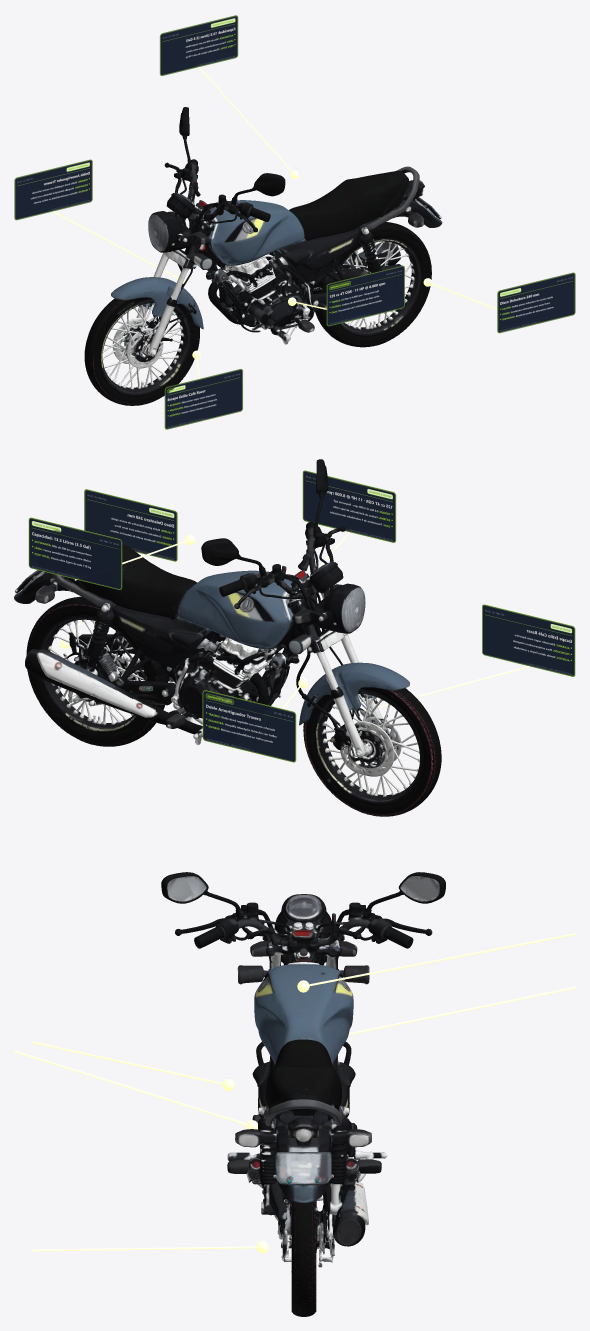
Rendered from akt-nkd_ar.glb.
The picture shows the model from 3 angles, top to bottom: view 1: azimuth 30°, elevation 25°; view 2: azimuth 150°, elevation 25°; view 3: azimuth 270°, elevation 25°; orthographic projection. The views are drawn at different scales.
Visible parts, largest first — view 1: Mesh_0.002, Card_0_FRENOS & CONTROL, Card_4_SUSPENSIÓN & CHASIS, Card_1_MOTOR & POTENCIA, Card_2_ESCAPE & ESTILO, Card_3_TANQUE & AUTONOMÍA; view 2: Mesh_0.002, Card_3_TANQUE & AUTONOMÍA, Card_4_SUSPENSIÓN & CHASIS, Card_2_ESCAPE & ESTILO, Card_1_MOTOR & POTENCIA, Card_0_FRENOS & CONTROL; view 3: Mesh_0.002, Card_3_TANQUE & AUTONOMÍA_Line, Card_1_MOTOR & POTENCIA_Line, Card_4_SUSPENSIÓN & CHASIS_Line, Card_0_FRENOS & CONTROL_Line.
Part boxes in pixels (<box>): Mesh_0.002: <box>84,107,442,405</box>; Card_0_FRENOS & CONTROL: <box>497,272,575,333</box>; Card_4_SUSPENSIÓN & CHASIS: <box>14,159,92,220</box>; Card_1_MOTOR & POTENCIA: <box>326,265,404,326</box>; Card_2_ESCAPE & ESTILO: <box>164,369,242,429</box>; Card_3_TANQUE & AUTONOMÍA: <box>160,15,238,75</box>; Mesh_0.002: <box>14,459,441,816</box>; Card_3_TANQUE & AUTONOMÍA: <box>28,517,122,589</box>; Card_4_SUSPENSIÓN & CHASIS: <box>202,690,296,762</box>; Card_2_ESCAPE & ESTILO: <box>482,604,575,676</box>; Card_1_MOTOR & POTENCIA: <box>302,470,396,542</box>; Card_0_FRENOS & CONTROL: <box>84,489,177,561</box>; Mesh_0.002: <box>161,872,445,1316</box>; Card_3_TANQUE & AUTONOMÍA_Line: <box>309,933,575,986</box>; Card_1_MOTOR & POTENCIA_Line: <box>14,1050,246,1125</box>; Card_4_SUSPENSIÓN & CHASIS_Line: <box>348,986,575,1035</box>; Card_0_FRENOS & CONTROL_Line: <box>31,1246,256,1251</box>.
Size of the model in its own units: 1.98 by 1.25 by 1.65.
7 materials, 6 textured.
